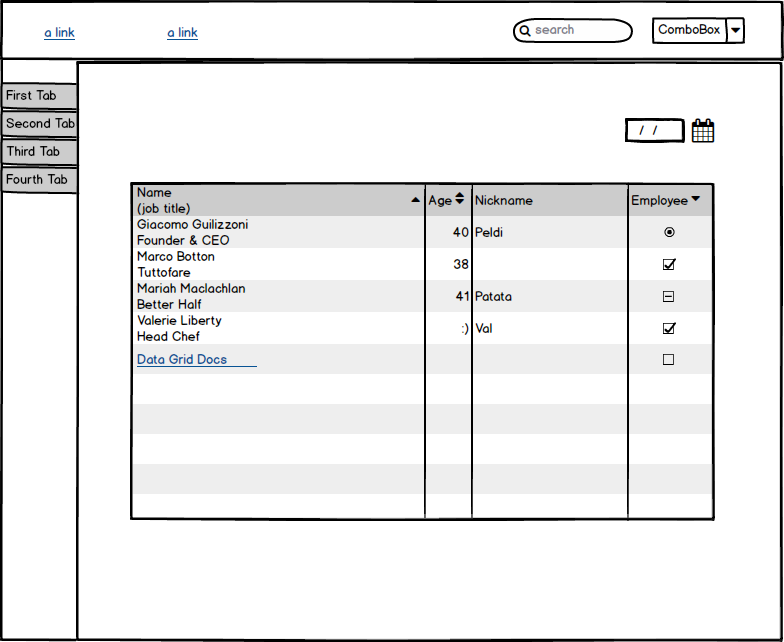date_picker: (620, 110, 729, 149)
navlink: (162, 22, 212, 45), (37, 22, 83, 44)
search: (507, 13, 637, 49)
select_box: (650, 13, 750, 49)
sidebar: (1, 78, 83, 200)
table: (122, 174, 722, 525)
